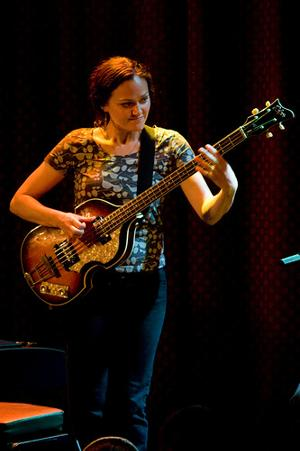person: (10, 57, 238, 450)
